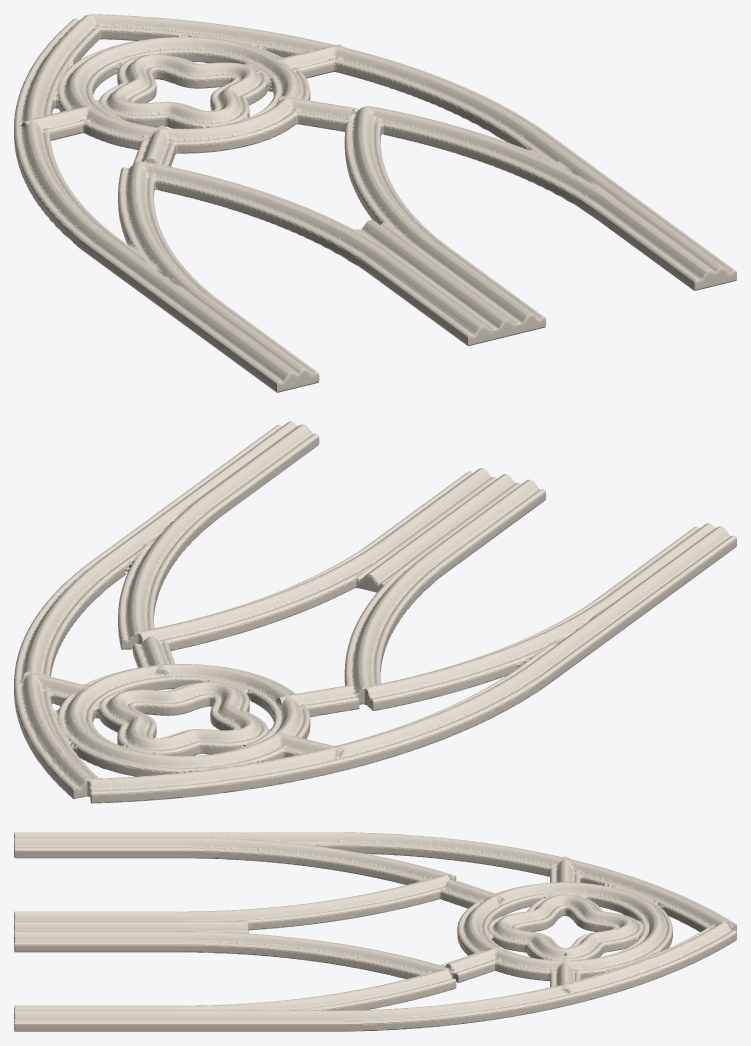
File: J01_EXPERIMENTAL_moulding_continuity.glb
3 renders of one model, top to bottom at view 1: azimuth 30°, elevation 25°; view 2: azimuth 150°, elevation 25°; view 3: azimuth 270°, elevation 25°, orthographic. The views are drawn at different scales.
Parts seen in each view (by area): view 1: J01 fused continuous moulding; view 2: J01 fused continuous moulding; view 3: J01 fused continuous moulding.
Boxes of the visible parts, x1,y1,x2,y2 form: J01 fused continuous moulding: (14,14,736,392); J01 fused continuous moulding: (14,421,736,803); J01 fused continuous moulding: (14,832,736,1031).
Bounding box in the file's own units: 38.6 × 1.43 × 61.66.
